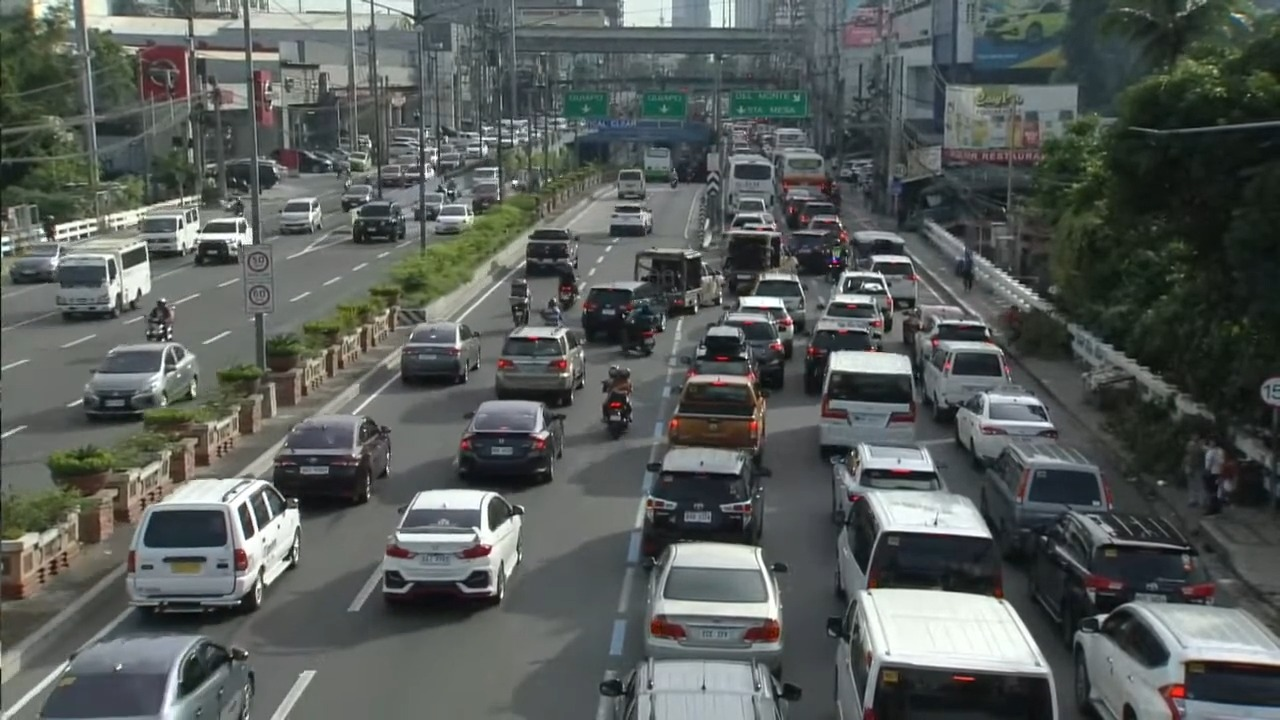bus: (55, 236, 151, 317), (725, 155, 775, 207), (776, 151, 829, 191), (643, 146, 672, 182), (773, 128, 809, 149)
car: (1028, 511, 1215, 645), (1072, 603, 1279, 719), (126, 477, 301, 612), (644, 542, 787, 676), (40, 634, 254, 719), (381, 489, 524, 604), (980, 438, 1113, 558), (640, 447, 769, 557), (600, 658, 800, 719), (272, 414, 391, 502), (832, 443, 946, 523), (454, 400, 564, 482), (82, 342, 199, 417), (954, 386, 1057, 466), (922, 341, 1012, 421), (495, 326, 586, 405), (803, 321, 880, 394), (713, 311, 784, 389), (912, 306, 993, 371), (400, 321, 480, 383), (581, 281, 665, 340), (902, 305, 967, 365), (983, 0, 1067, 45), (834, 270, 894, 331), (735, 296, 793, 358), (752, 272, 807, 331), (818, 294, 883, 340), (681, 346, 758, 384), (194, 218, 253, 265), (868, 255, 919, 307), (525, 227, 579, 274), (9, 242, 66, 283), (352, 200, 406, 243), (786, 230, 835, 273), (851, 230, 906, 268), (694, 325, 751, 356), (226, 158, 284, 188), (279, 197, 322, 233), (783, 187, 815, 228), (609, 204, 652, 234), (797, 196, 838, 227), (434, 203, 474, 234), (806, 215, 848, 241), (470, 182, 502, 213), (340, 184, 375, 212), (296, 150, 334, 173), (415, 193, 445, 220), (730, 212, 776, 229), (732, 195, 770, 214), (401, 157, 423, 186), (378, 164, 404, 187), (437, 152, 461, 173), (346, 151, 369, 171), (472, 167, 499, 183), (465, 143, 487, 159)
motorcycle: (605, 394, 630, 439), (622, 330, 655, 356), (145, 320, 172, 341), (557, 285, 576, 308), (827, 258, 844, 283), (222, 197, 244, 216), (540, 308, 562, 326), (511, 305, 527, 327), (670, 176, 678, 188)
truck: (667, 375, 767, 463), (633, 248, 723, 313), (723, 230, 781, 294)
